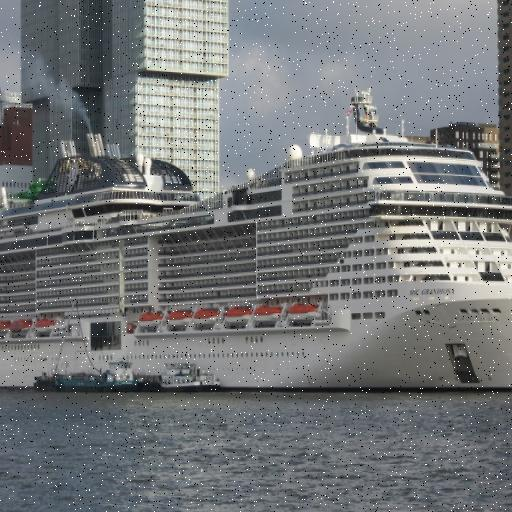cruises: (1, 85, 512, 402)
